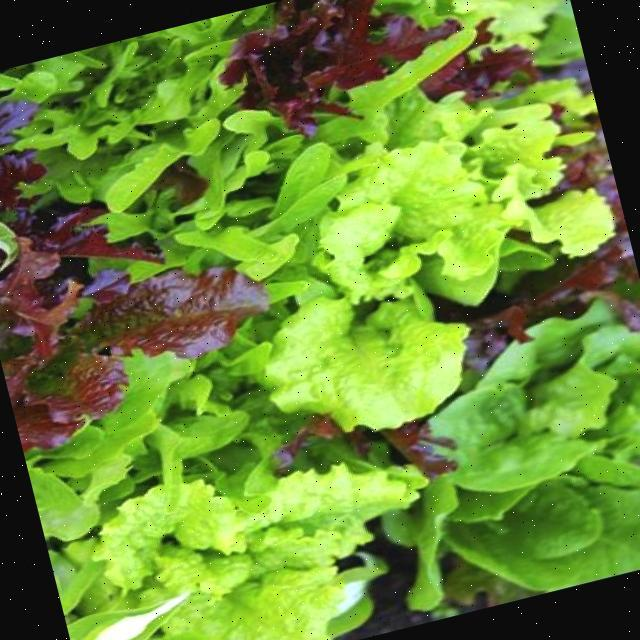healthy: (42, 391, 441, 640), (238, 90, 578, 340), (400, 299, 640, 608)
